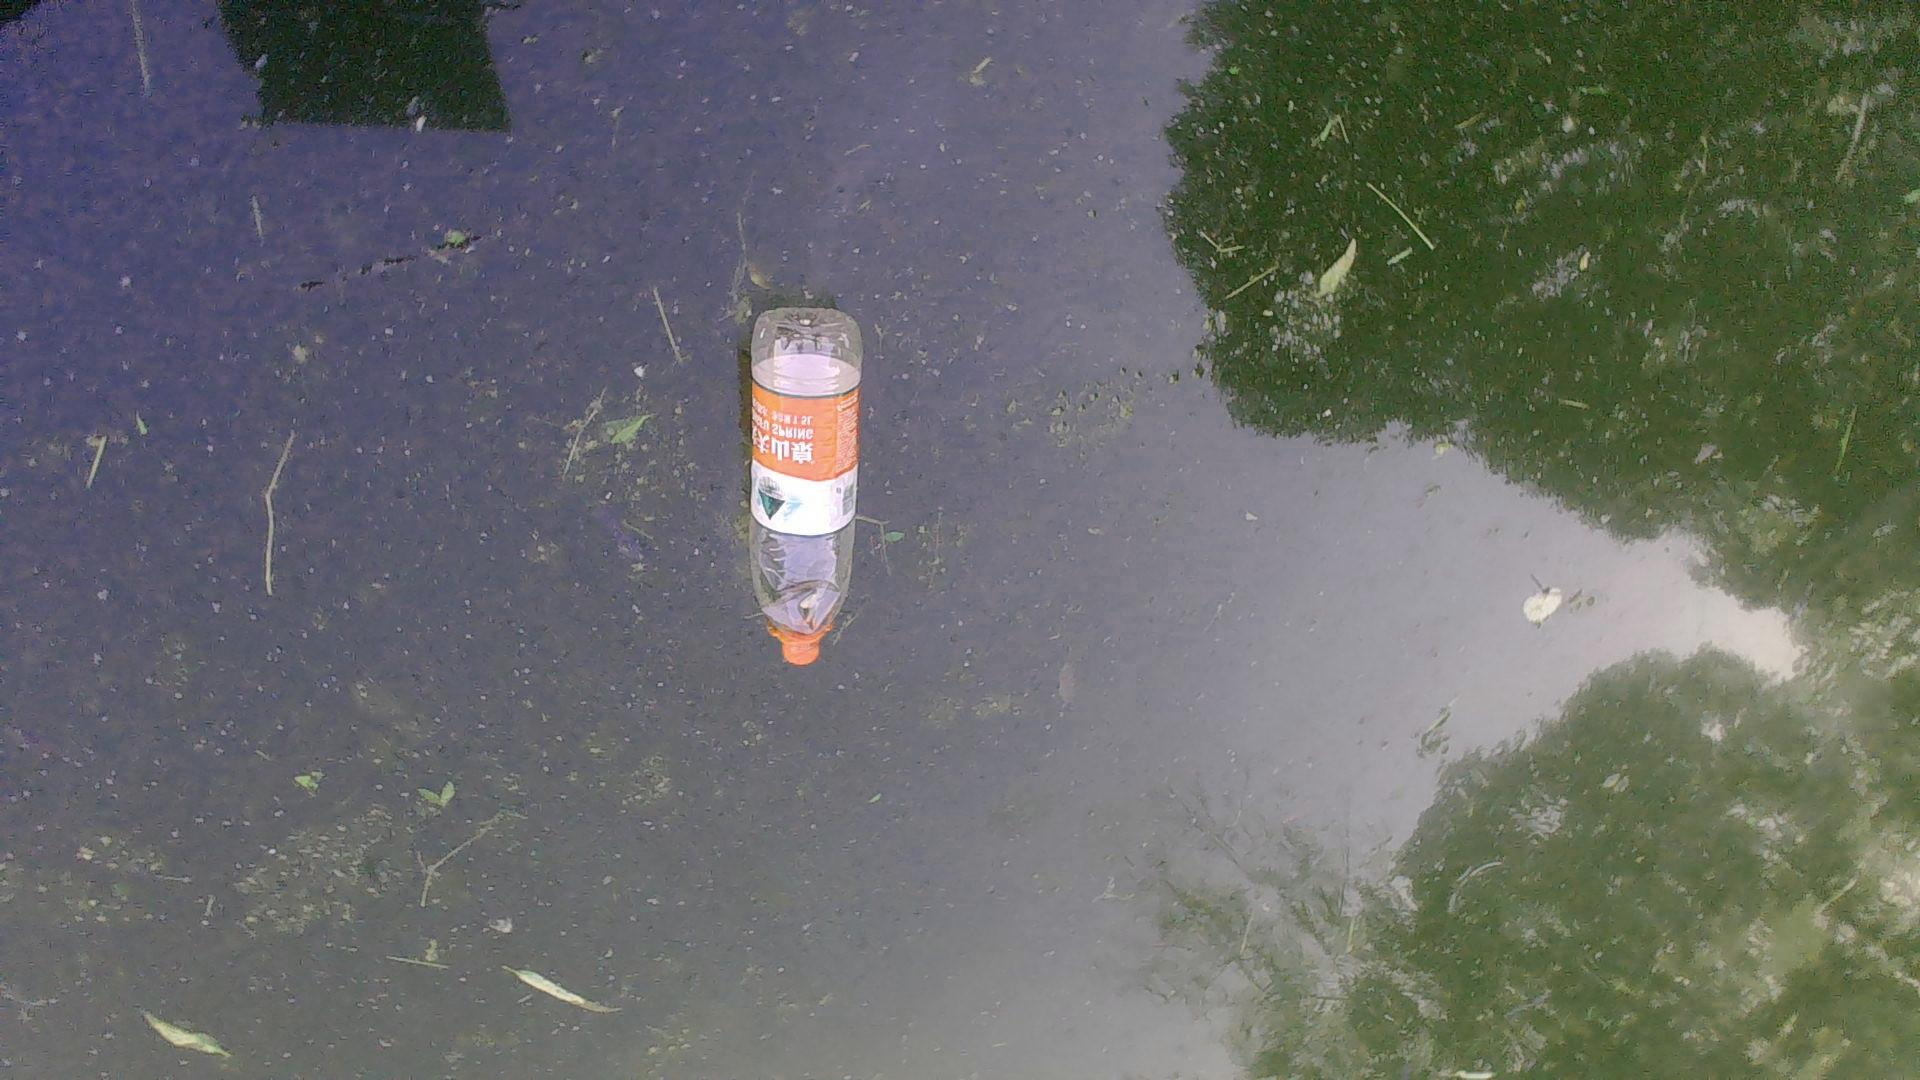Plastic: (729, 294, 876, 675)
